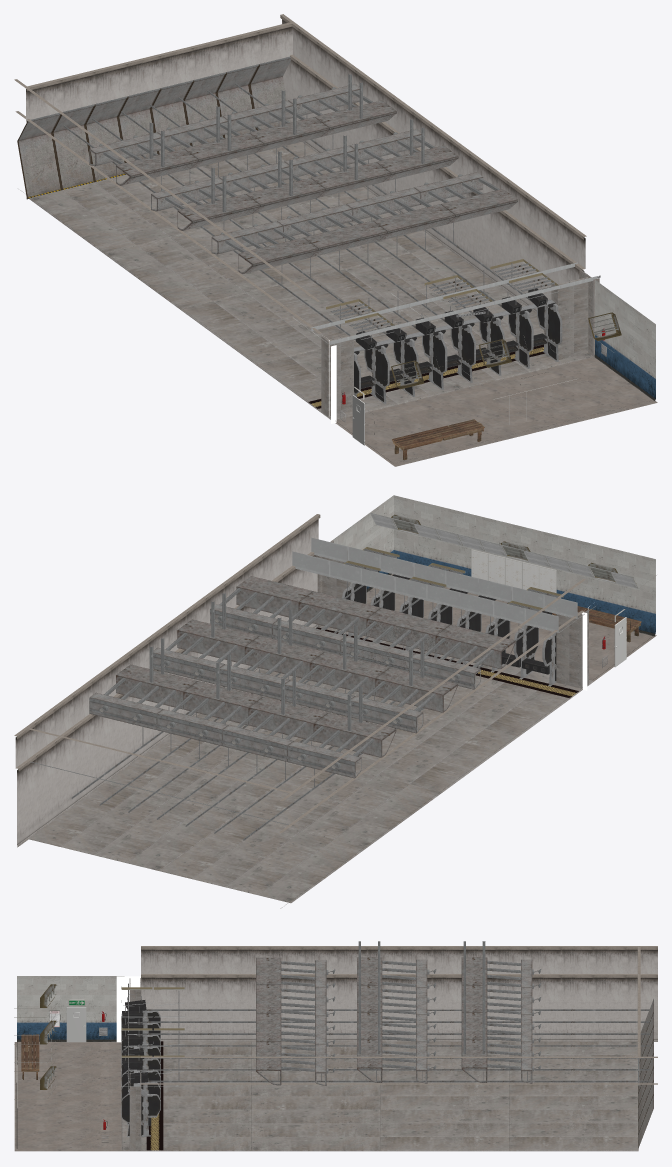
The model's file is shooting_range_2k.glb.
3 renders of one model, top to bottom at view 1: azimuth 30°, elevation 25°; view 2: azimuth 150°, elevation 25°; view 3: azimuth 270°, elevation 25°, orthographic. The views are drawn at different scales.
Parts seen in each view (by area): view 1: FireRange_FloorPlane03__2_, FireRange_FloorPlane03__4_, FireRange_FloorPlane03__3_, FireRange_FloorPlane03__6_, FireRange_FloorPlane03__5_, FireRange_FloorPlane03, BulletTrap, BulletTrap__1_, CeillingBaffle__12_, CeillingBaffle__8_, CeillingBaffle__5_, CeillingBaffle__11_ (+53 smaller); view 2: FireRange_FloorPlane03__6_, FireRange_FloorPlane03__7_, FireRange_FloorPlane03__4_, FireRange_FloorPlane03__5_, FireRange_FloorPlane03__2_, FireRange_FloorPlane03, CeillingBaffle__12_, CeillingBaffle__15_, CeillingBaffle__8_, CeillingBaffle__13_, CeillingBaffle__14_, CeillingBaffle__11_ (+41 smaller); view 3: FireRange_FloorPlane03__5_, FireRange_FloorPlane03__3_, FireRange_FloorPlane03__7_, FireRange_FloorPlane03__6_, FireRange_FloorPlane03__4_, FireRange_FloorPlane03__1_, FireRange_FloorPlane03__2_, FireRange_FloorPlane03, FireRange_Wall02__14_, FireRange_Wall02__2_, FireRange_Wall02__13_, FireRange_Wall02__1_ (+45 smaller).
Boxes of the visible parts, x1,y1,x2,y2 form: FireRange_FloorPlane03__2_: (180, 277, 386, 364); FireRange_FloorPlane03__4_: (105, 222, 310, 309); FireRange_FloorPlane03__3_: (312, 245, 518, 331); FireRange_FloorPlane03__6_: (29, 174, 235, 253); FireRange_FloorPlane03__5_: (236, 190, 442, 277); FireRange_FloorPlane03: (256, 333, 463, 419); BulletTrap: (17, 78, 61, 199); BulletTrap__1_: (52, 70, 94, 189); CeillingBaffle__12_: (89, 122, 198, 185); CeillingBaffle__8_: (151, 167, 259, 230); CeillingBaffle__5_: (277, 204, 387, 257); CeillingBaffle__11_: (349, 119, 458, 182); FireRange_FloorPlane03__6_: (160, 815, 366, 903); FireRange_FloorPlane03__7_: (29, 783, 234, 871); FireRange_FloorPlane03__4_: (236, 766, 442, 847); FireRange_FloorPlane03__5_: (105, 734, 302, 815); FireRange_FloorPlane03__2_: (327, 713, 517, 792); FireRange_FloorPlane03: (388, 657, 593, 736); CeillingBaffle__12_: (287, 686, 396, 778); CeillingBaffle__15_: (89, 638, 197, 729); CeillingBaffle__8_: (351, 641, 457, 733); CeillingBaffle__13_: (222, 670, 328, 761); CeillingBaffle__14_: (157, 654, 262, 745); CeillingBaffle__11_: (153, 593, 259, 684); FireRange_FloorPlane03__5_: (380, 1096, 509, 1151); FireRange_FloorPlane03__3_: (251, 1096, 380, 1151); FireRange_FloorPlane03__7_: (509, 1096, 638, 1151); FireRange_FloorPlane03__6_: (509, 1041, 637, 1096); FireRange_FloorPlane03__4_: (380, 1041, 509, 1096); FireRange_FloorPlane03__1_: (121, 1096, 250, 1151); FireRange_FloorPlane03__2_: (251, 1041, 380, 1096); FireRange_FloorPlane03: (163, 1041, 250, 1096); FireRange_Wall02__14_: (593, 946, 625, 1041); FireRange_Wall02__2_: (205, 946, 237, 1041); FireRange_Wall02__13_: (561, 946, 593, 1041); FireRange_Wall02__1_: (173, 946, 205, 1041).
Bounding box in the file's own units: 16.83 × 7.91 × 39.9.
Materials: 16 (14 with a texture image).
